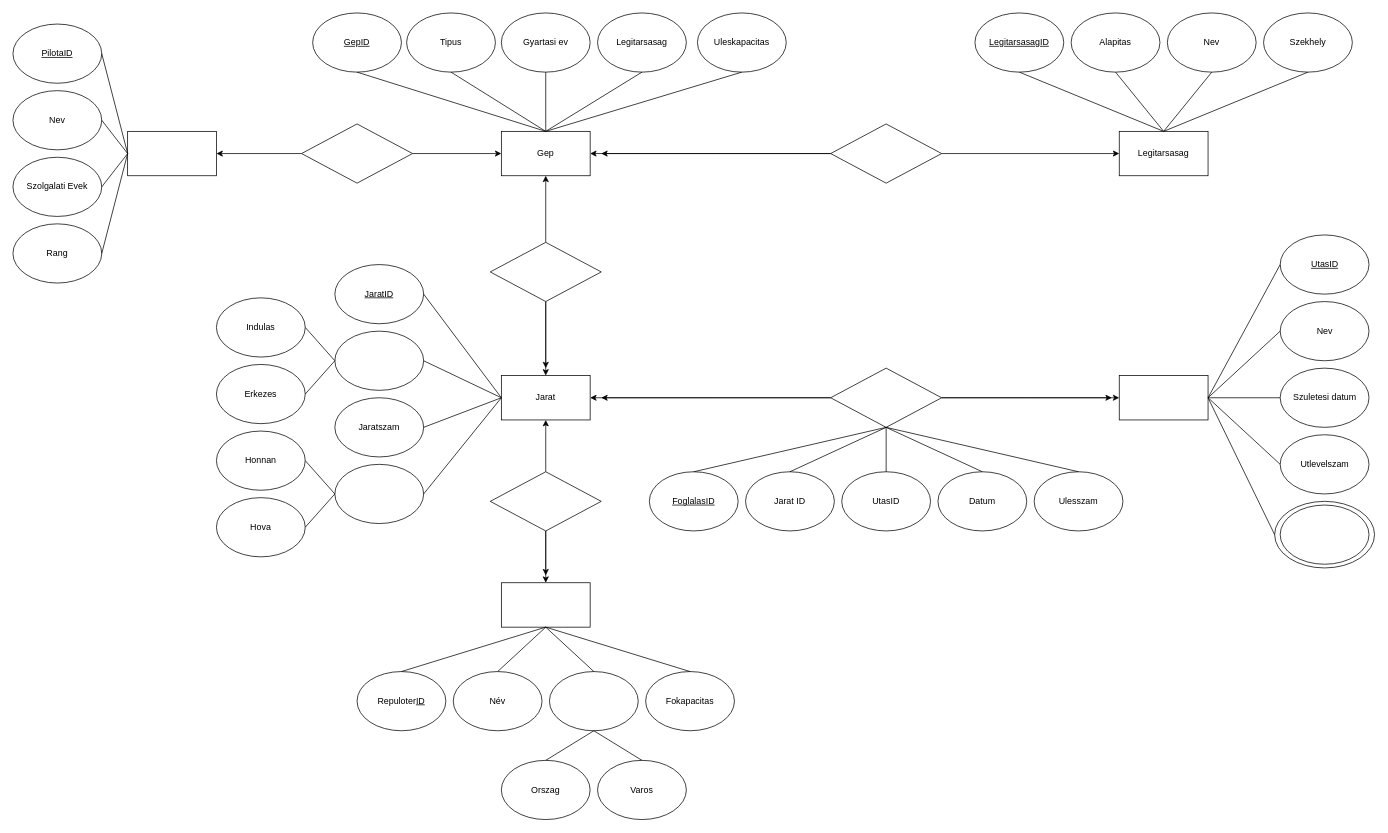
The diagram is 1388 pixels wide and 833 high, and some of its shapes have lost their labels. Here are the shapes that lost their labels. From the top down, the centre of each, then its label:
point (171, 153): Pilota
point (357, 153): Pilota - Gep
point (886, 153): Gep - Legitarsasag
point (545, 272): Gep - Jarat
point (379, 360): Menetrend
point (886, 397): Foglalás
point (1163, 397): Utas
point (379, 494): Helyszin
point (545, 501): Repuloter - Jarat
point (1324, 534): Telefonszám
point (545, 604): Repuloter
point (593, 701): Cim
